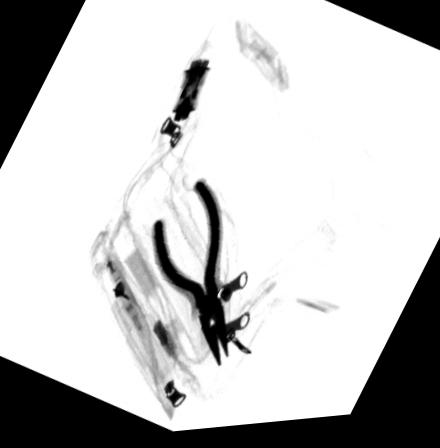Pliers: (151, 181, 234, 372)
